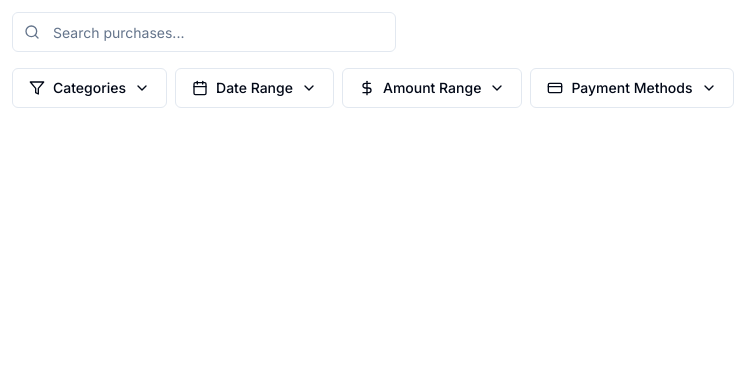
Test: PurchaseFilters › should open amount range filter when clicked
The image size is (751, 375).
Click the button "Amount Range".
click(432, 88)  # box [342,68,522,108]
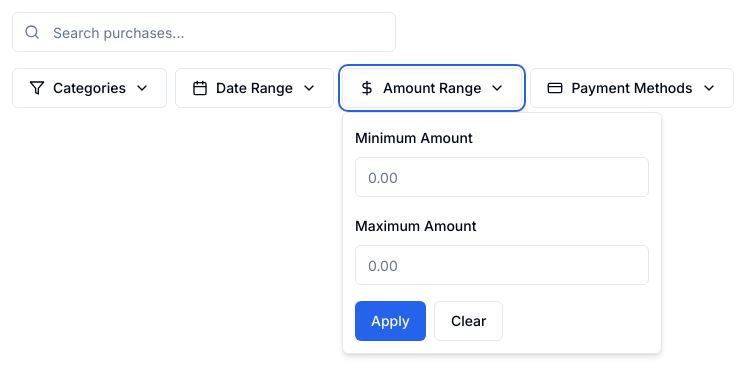
Expected: the number field labelled "Minimum Amount" is shown, [355,157,649,197]
Expected: the number field labelled "Maximum Amount" is shown, [355,245,649,285]
